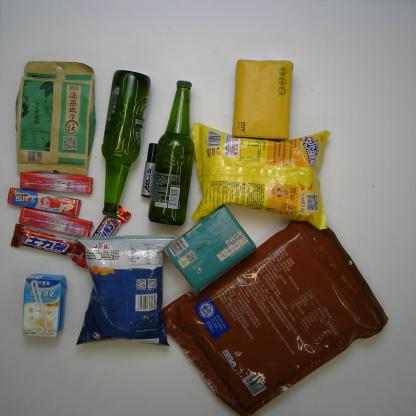Alcohol: (101, 70, 151, 218), (147, 81, 194, 226)
Candy: (17, 207, 92, 237), (8, 188, 84, 216), (20, 171, 92, 193)
Chocolate: (72, 202, 131, 270), (11, 223, 89, 269)
Dried Food: (162, 217, 387, 413), (15, 60, 96, 174)
Milk: (21, 274, 64, 340)
Puffed Food: (191, 121, 329, 229), (75, 236, 174, 347)
Stationery: (141, 144, 158, 198)
Tissue: (165, 204, 256, 295), (229, 58, 294, 140)
